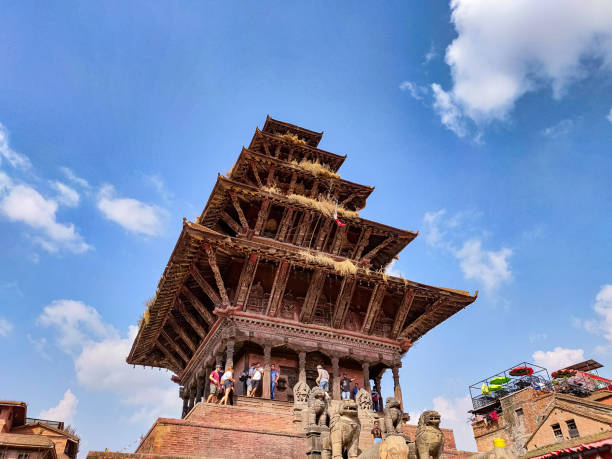nyathapola: (113, 76, 476, 458)
